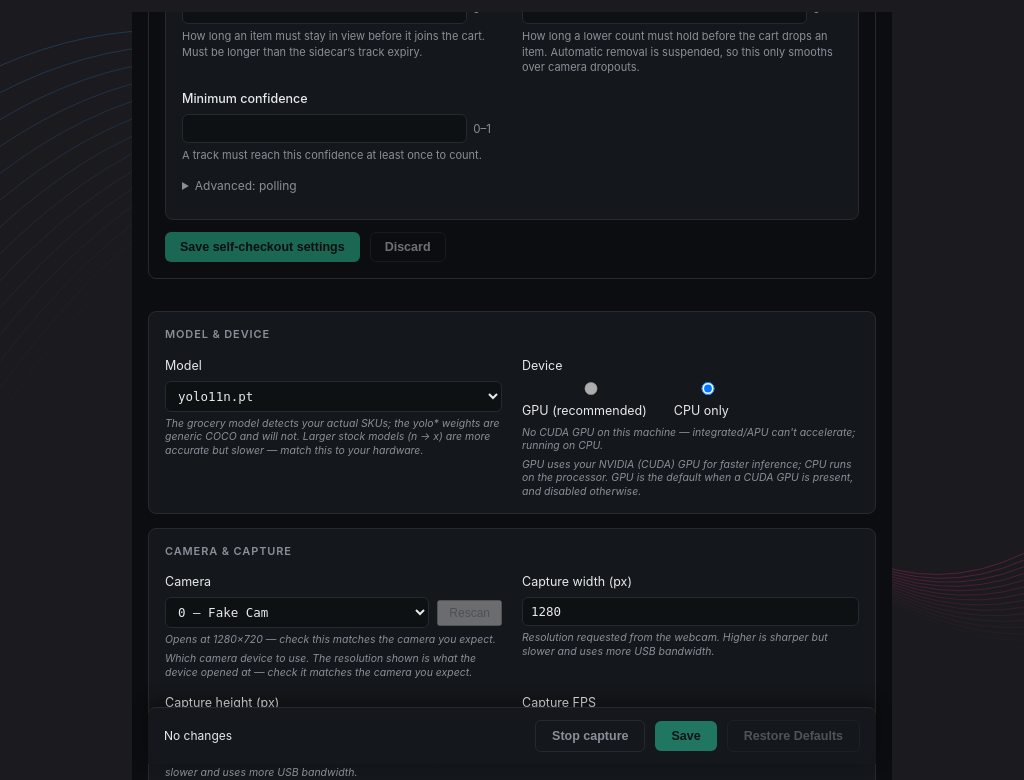
Test case: AdminPanel › puts Stop capture inside the restart-required warning
(page scrolled)
Select "yolo11s.pt" in the dropdown labelled "Model": point(334, 396) [165,380,502,412]
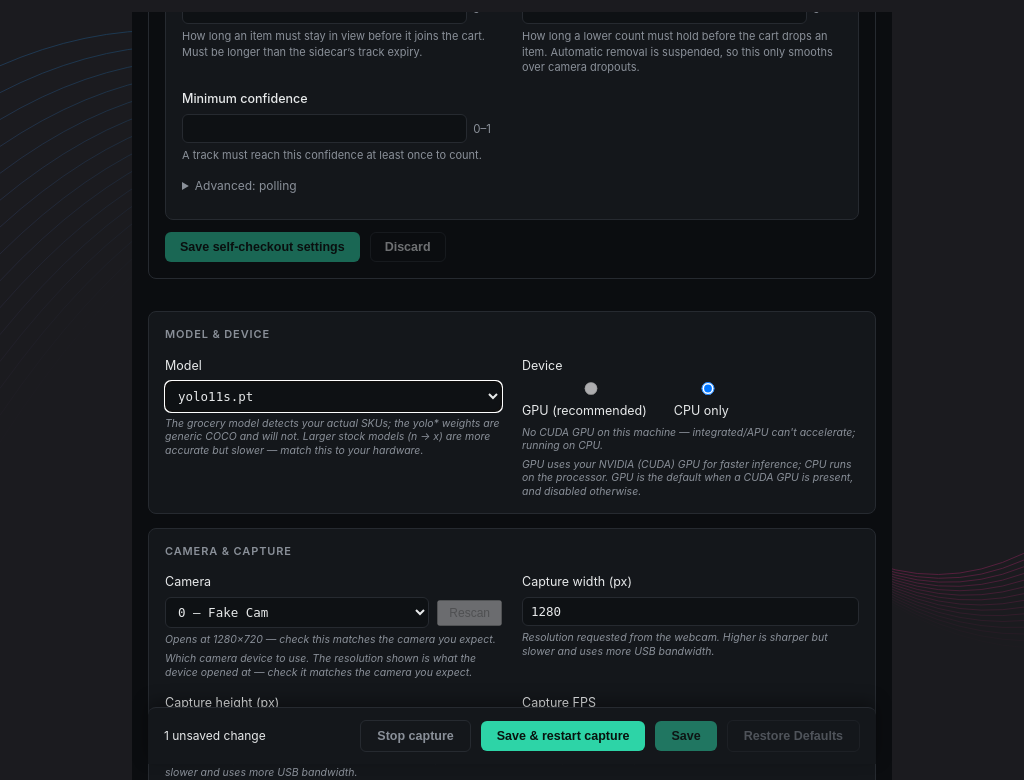
Expected: the button with test id "save-and-restart" is shown, [481,721,646,751]
